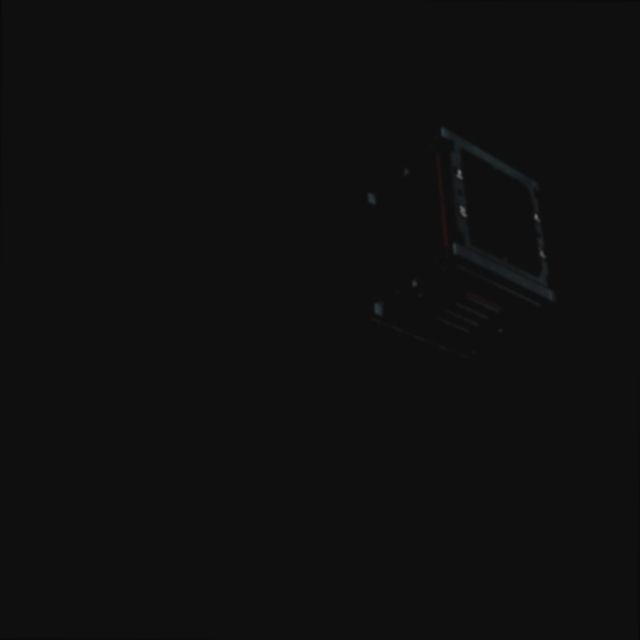medium_debris: (344, 125, 563, 364)
